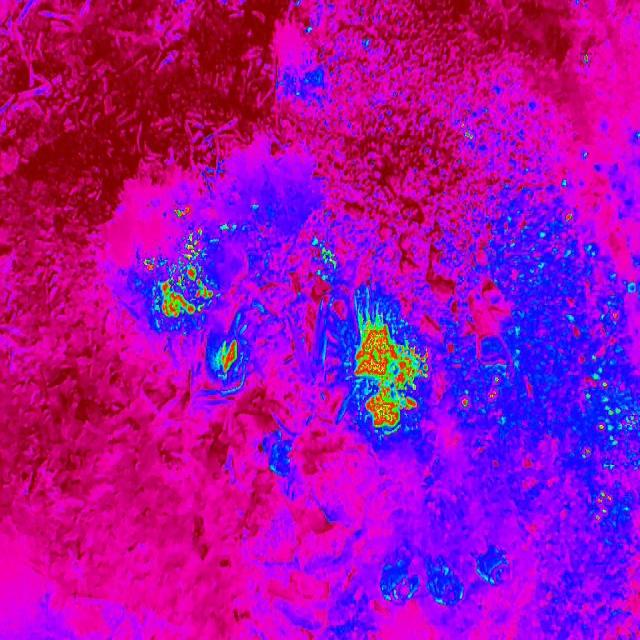fire: (557, 290, 640, 524), (350, 316, 430, 434), (143, 228, 219, 326), (456, 374, 502, 412), (216, 337, 239, 378), (321, 248, 338, 270), (172, 202, 192, 220), (460, 125, 477, 145), (561, 212, 577, 224), (582, 52, 592, 64)
